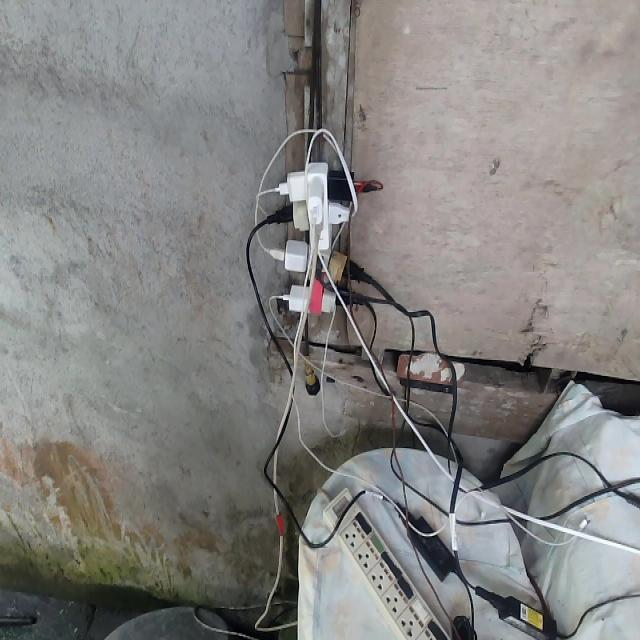-: (270, 155, 364, 320)
